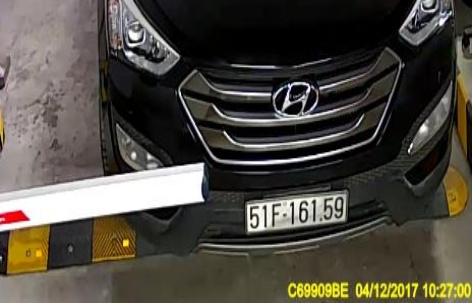plate: (237, 186, 352, 231)
